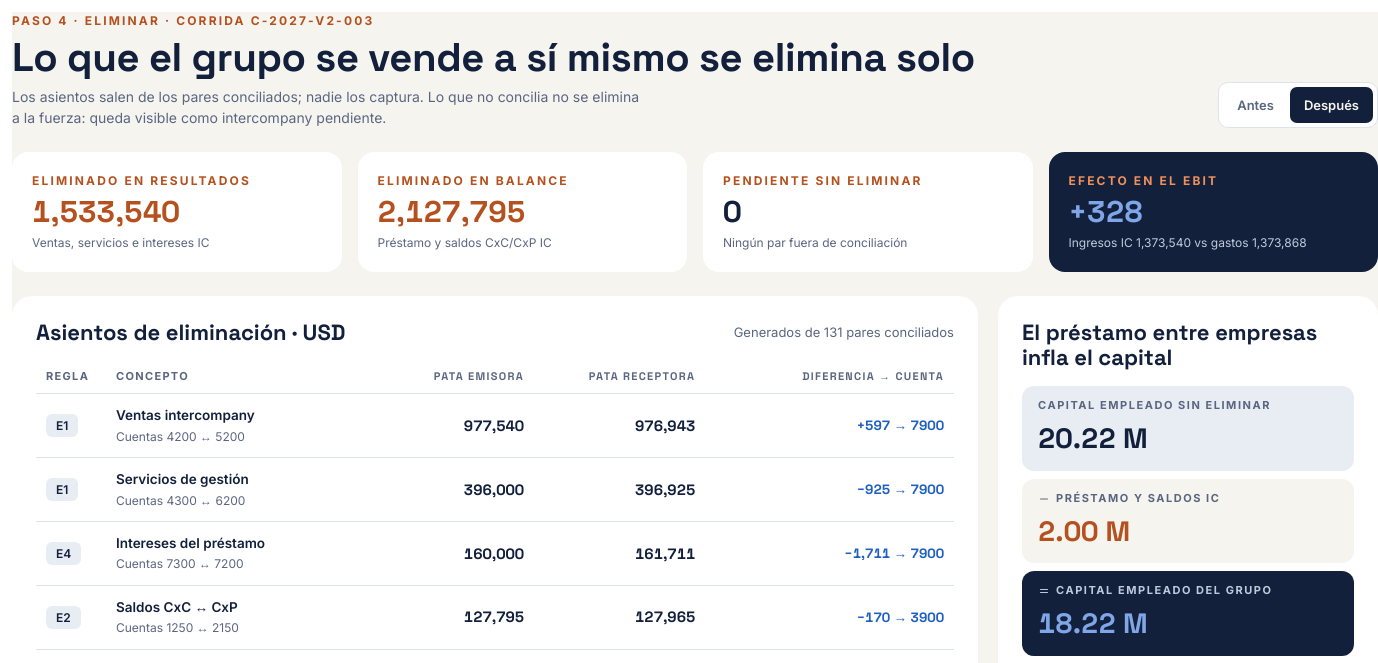
Scenario: EliminationsPage › alterna Antes/Después con el control segmentado
Click the button "Antes" at (1256, 105), box x1=1223 y1=87 x2=1288 y2=123
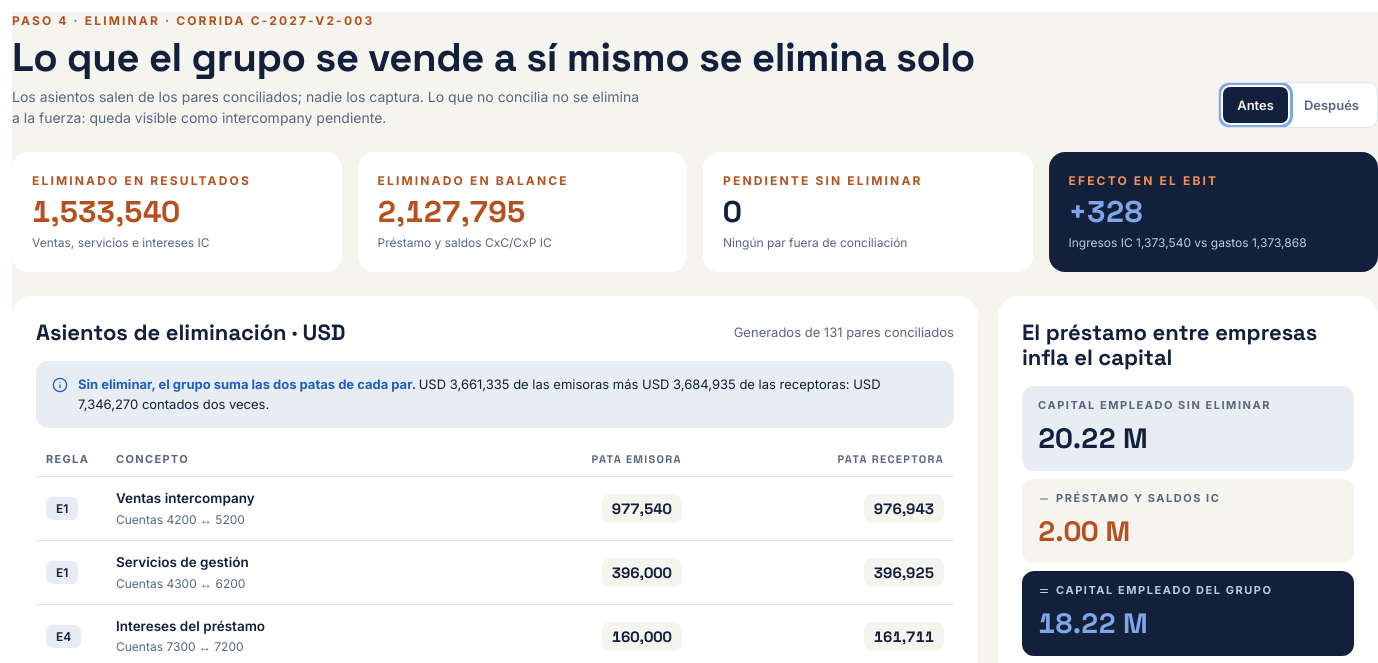
Expected: the text "Sin eliminar, el grupo suma las dos patas de cada par." is shown, x1=78 y1=376 x2=419 y2=392
Click the button "Después" at (1331, 105), box x1=1290 y1=87 x2=1373 y2=123
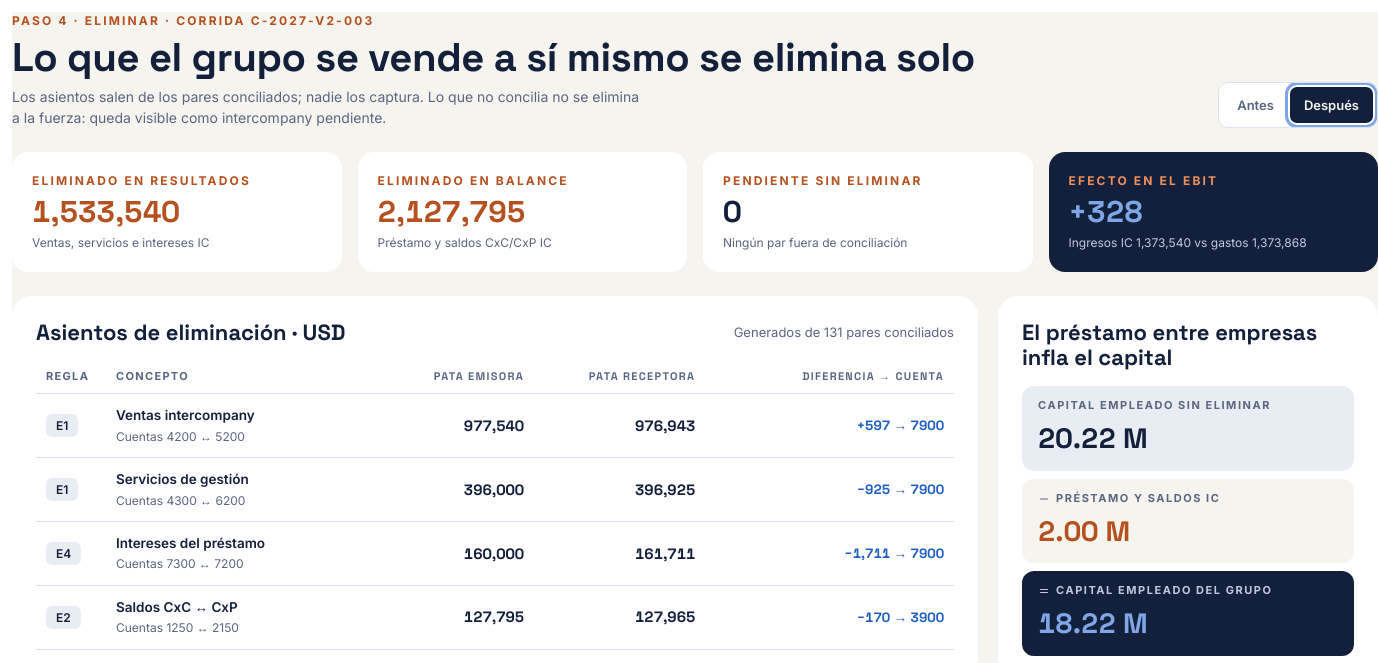
Expected: the text "+597 → 7900" is shown, x1=857 y1=417 x2=944 y2=434
